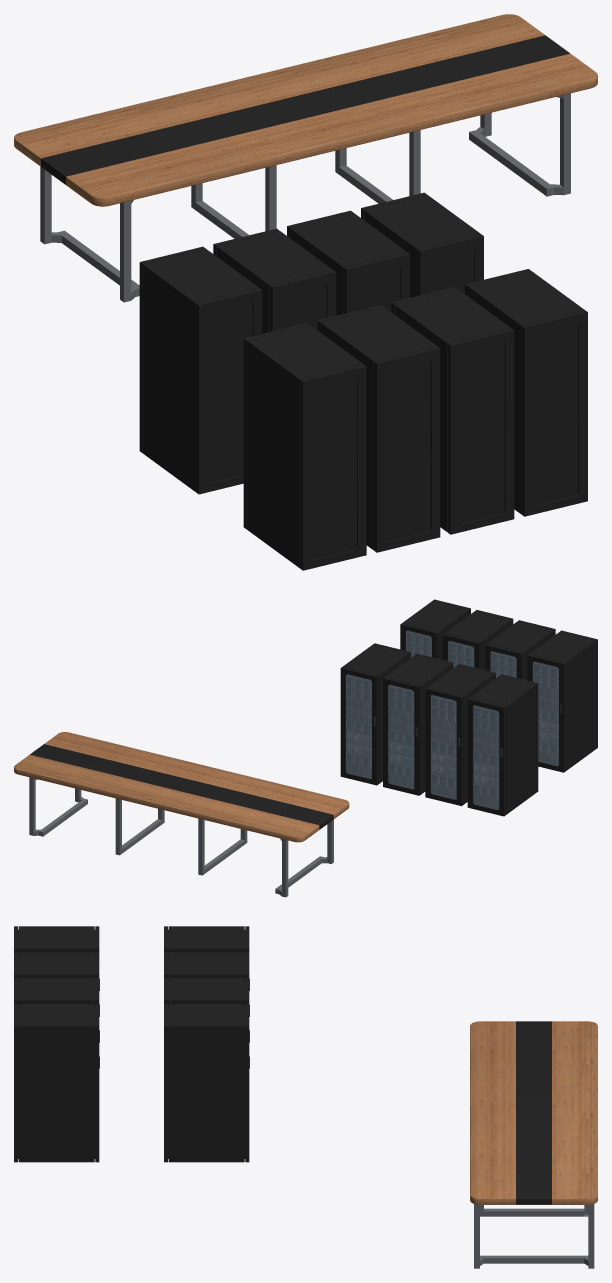
Rendered from meeting room 4.glb.
The picture shows the model from 3 angles, top to bottom: view 1: azimuth 30°, elevation 25°; view 2: azimuth 150°, elevation 25°; view 3: azimuth 270°, elevation 25°; orthographic projection. The views are drawn at different scales.
Parts seen in each view (by area): view 1: 立方体.290, 主机.003, 主机.007, 主机.002, 主机.001, 主机.009, 立方体.289, 主机.006, 主机.005, 主机.004; view 2: 立方体.290, 主机.007, 主机.003, 主机.006, 主机.004, 主机.005, 立方体.289, 主机.001, 主机.002, 主机.009; view 3: 立方体.290, 主机.009, 主机.004, 立方体.289, 主机.007, 主机.003, 主机.006, 主机.005, 主机.002, 主机.001.
Boxes of the visible parts, x1,y1,x2,y2 form: 立方体.290: [14, 14, 597, 206]; 主机.003: [243, 323, 366, 570]; 主机.007: [139, 246, 262, 494]; 主机.002: [317, 305, 440, 552]; 主机.001: [391, 287, 514, 534]; 主机.009: [465, 269, 587, 516]; 立方体.289: [40, 93, 570, 302]; 主机.006: [213, 228, 336, 333]; 主机.005: [287, 210, 409, 315]; 主机.004: [361, 192, 483, 297]; 立方体.290: [14, 732, 349, 842]; 主机.007: [467, 674, 538, 816]; 主机.003: [527, 630, 597, 772]; 主机.006: [425, 664, 495, 806]; 主机.004: [340, 643, 410, 785]; 主机.005: [383, 653, 453, 795]; 立方体.289: [29, 777, 333, 897]; 主机.001: [442, 610, 513, 669]; 主机.002: [485, 620, 555, 680]; 主机.009: [400, 599, 470, 659]; 立方体.290: [470, 1021, 597, 1204]; 主机.009: [14, 1004, 99, 1162]; 主机.004: [164, 1004, 249, 1162]; 立方体.289: [474, 1204, 594, 1268]; 主机.007: [164, 926, 249, 990]; 主机.003: [14, 926, 99, 990]; 主机.006: [164, 952, 249, 1016]; 主机.005: [164, 978, 249, 1042]; 主机.002: [14, 952, 99, 1016]; 主机.001: [14, 978, 99, 1042].
Size of the model in its own units: 2.35 by 0.687 by 2.67.
Materials: 8 (5 with a texture image).
